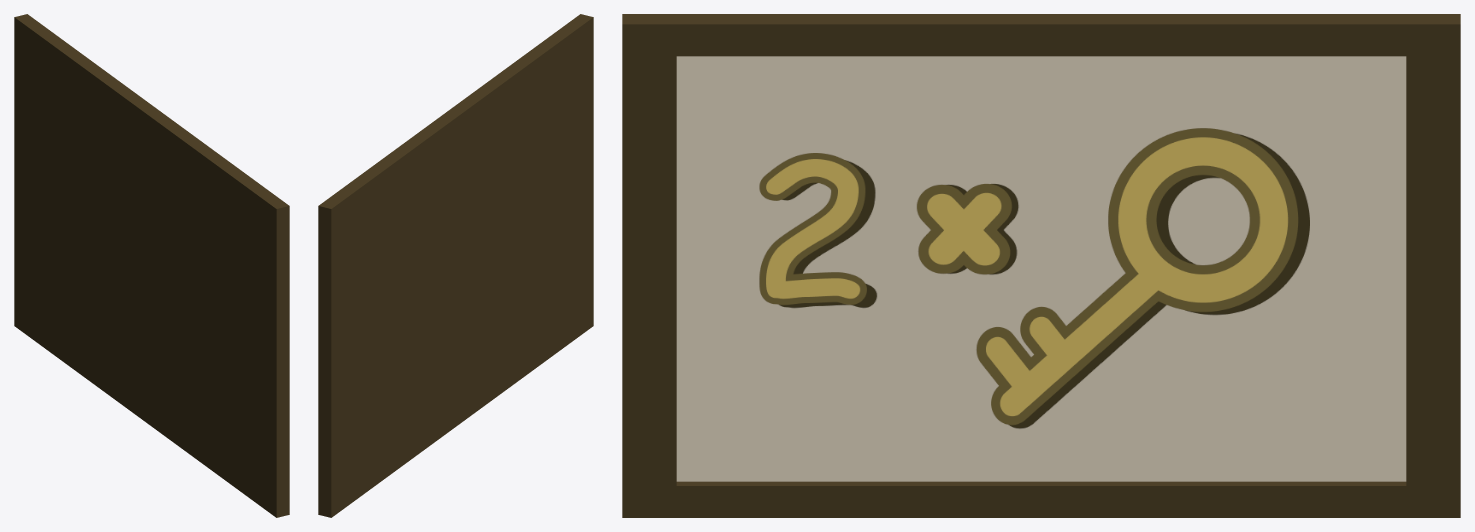
Rendered from 2yellowkey.fbx.
The picture shows the model from 3 angles, left to right: view 1: azimuth 30°, elevation 25°; view 2: azimuth 150°, elevation 25°; view 3: azimuth 270°, elevation 25°; orthographic projection. The views are drawn at different scales.
Parts seen in each view (by area): view 1: Cube; view 2: Cube; view 3: Cube.
Boxes of the visible parts, bbox=[...] form: Cube: bbox=[14, 14, 289, 517]; Cube: bbox=[318, 14, 593, 517]; Cube: bbox=[622, 14, 1460, 517].
Size of the model in its own units: 21.1 by 478 by 735.
